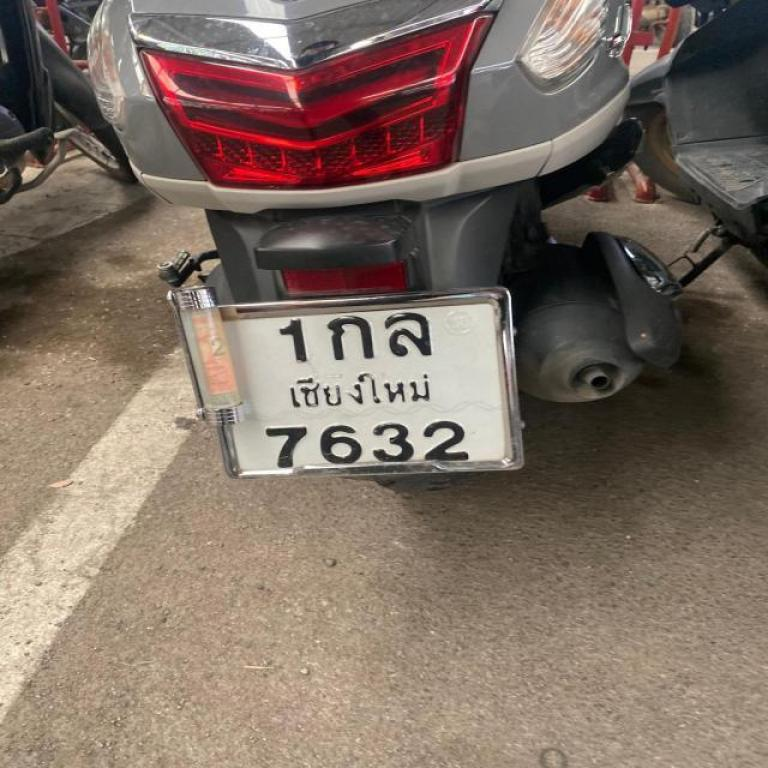license plate: (170, 287, 521, 475)
